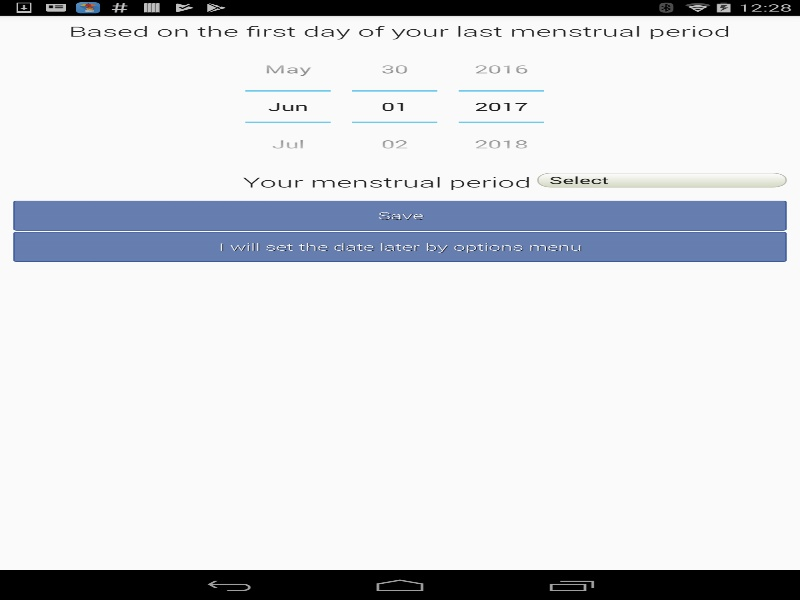Button: (13, 200, 786, 230), (13, 231, 786, 261), (458, 50, 544, 91), (458, 121, 544, 162), (245, 50, 330, 91), (245, 121, 330, 162), (352, 50, 437, 91), (352, 121, 437, 162)
Input: (458, 91, 544, 121), (245, 91, 330, 121), (352, 91, 437, 121)
